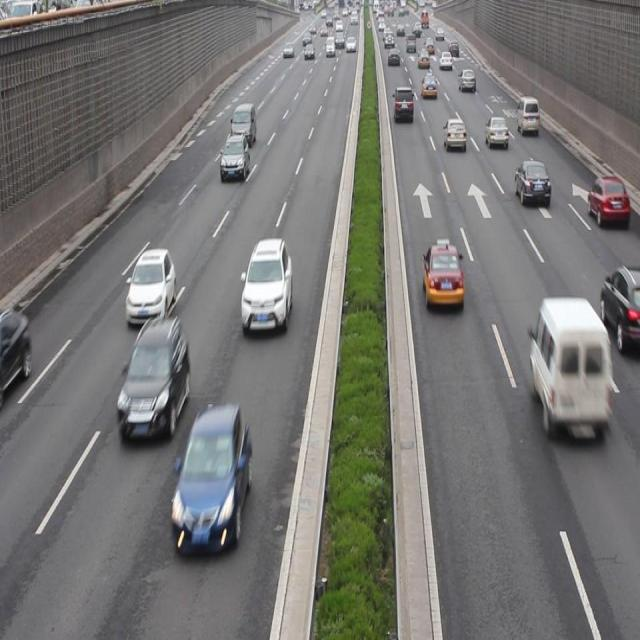car: (173, 399, 251, 546), (119, 318, 191, 437), (242, 240, 292, 336), (126, 247, 175, 327), (600, 261, 640, 352), (422, 237, 462, 311), (1, 304, 33, 392), (583, 173, 626, 224), (510, 157, 549, 206), (220, 134, 248, 178), (441, 116, 466, 154), (483, 115, 507, 150)
truck: (526, 291, 609, 441), (230, 104, 255, 143), (514, 97, 538, 134)
